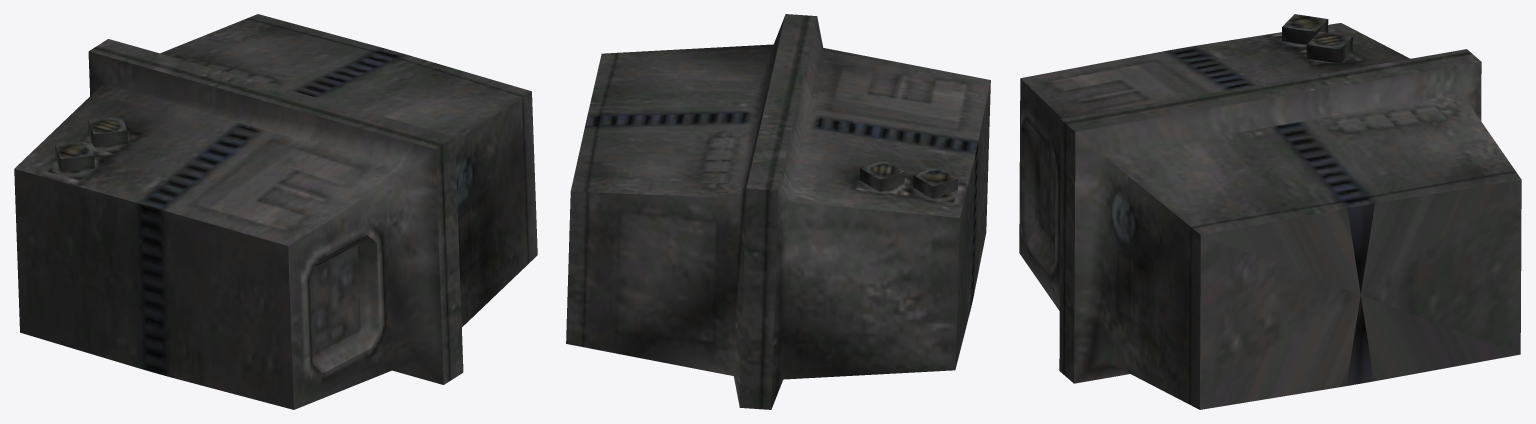
The model's file is poi_powerdroidbody_l0.fbx.
The picture shows the model from 3 angles, left to right: view 1: azimuth 30°, elevation 25°; view 2: azimuth 150°, elevation 25°; view 3: azimuth 270°, elevation 25°; orthographic projection. The views are drawn at different scales.
Visible parts, largest first — view 1: mesh_node; view 2: mesh_node; view 3: mesh_node.
Boxes of the visible parts, x1=… form: mesh_node: x1=14, y1=14, x2=537, y2=409; mesh_node: x1=566, y1=14, x2=990, y2=409; mesh_node: x1=1019, y1=14, x2=1521, y2=409.
Bounding box in the file's own units: 1.09 × 0.5581 × 0.9914.
